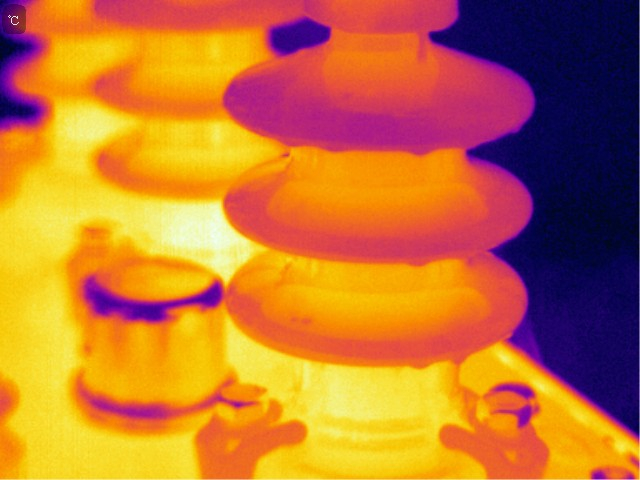Oil: (413, 26, 430, 67), (511, 119, 532, 143), (405, 356, 434, 372), (407, 256, 432, 270), (321, 144, 349, 156), (407, 149, 435, 158), (449, 354, 467, 365)
